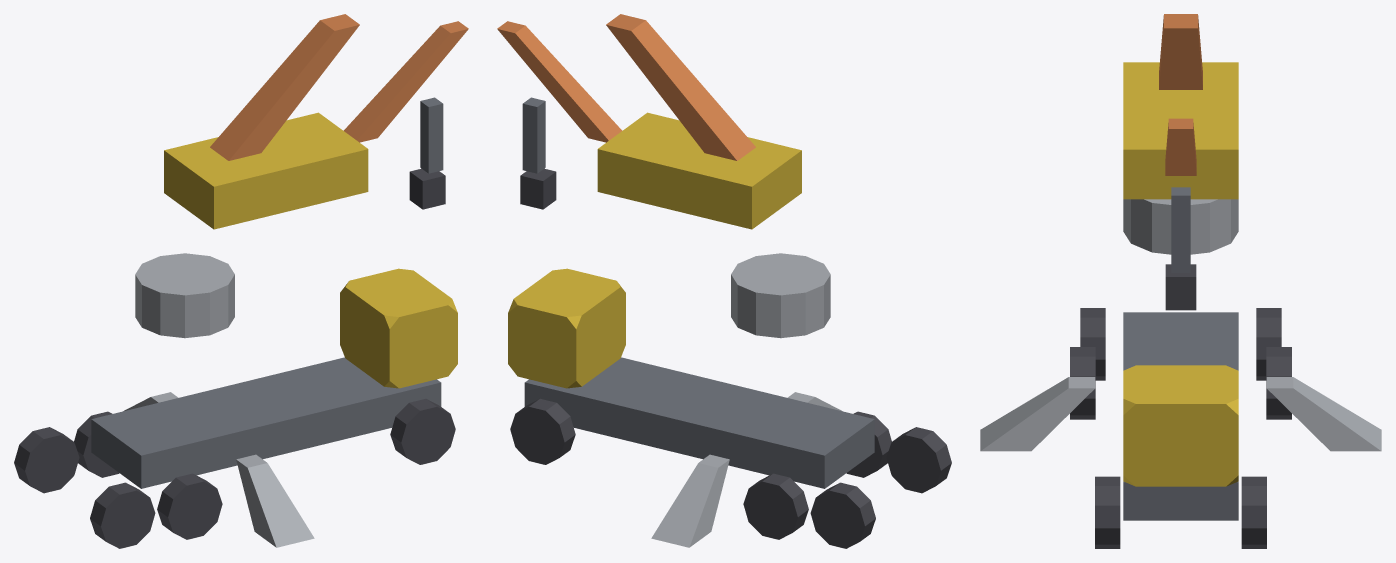
3 renders of one model, left to right at view 1: azimuth 30°, elevation 25°; view 2: azimuth 150°, elevation 25°; view 3: azimuth 270°, elevation 25°, orthographic. The views are drawn at different scales.
Parts seen in each view (by area): view 1: part0, part2, part1, part3, part4, part5, part9, part11, part14, part15, part13, part6 (+2 smaller); view 2: part0, part2, part1, part3, part4, part5, part8, part10, part15, part14, part12, part6 (+2 smaller); view 3: part1, part2, part0, part3, part8, part9, part4, part10, part11, part6, part5, part14 (+4 smaller).
Part boxes in pixels (x1,y1,x2,y2): part0: [91, 357, 441, 488]; part2: [164, 112, 368, 229]; part1: [340, 268, 457, 388]; part3: [135, 253, 234, 338]; part4: [210, 14, 359, 160]; part5: [343, 21, 468, 142]; part9: [236, 454, 314, 547]; part11: [390, 398, 455, 464]; part14: [14, 427, 79, 493]; part15: [90, 482, 155, 548]; part13: [157, 473, 222, 539]; part6: [420, 97, 443, 173]; part0: [524, 357, 874, 488]; part2: [597, 112, 801, 229]; part1: [508, 268, 625, 388]; part3: [731, 253, 830, 338]; part4: [606, 14, 755, 160]; part5: [497, 21, 622, 142]; part8: [651, 454, 729, 547]; part10: [510, 398, 575, 464]; part15: [886, 427, 951, 493]; part14: [810, 482, 875, 548]; part12: [743, 473, 808, 539]; part6: [522, 97, 545, 173]; part1: [1123, 365, 1238, 486]; part2: [1123, 62, 1238, 199]; part0: [1123, 312, 1238, 520]; part3: [1123, 199, 1238, 254]; part8: [1266, 377, 1381, 451]; part9: [980, 377, 1095, 451]; part4: [1159, 14, 1202, 89]; part10: [1241, 476, 1266, 548]; part11: [1095, 476, 1120, 548]; part6: [1171, 187, 1190, 272]; part5: [1165, 118, 1196, 175]; part14: [1256, 308, 1281, 380].
Size of the model in its own units: 8.94 by 9.11 by 6.59.
